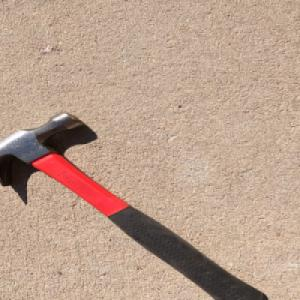Hammer: (0, 110, 269, 300)
